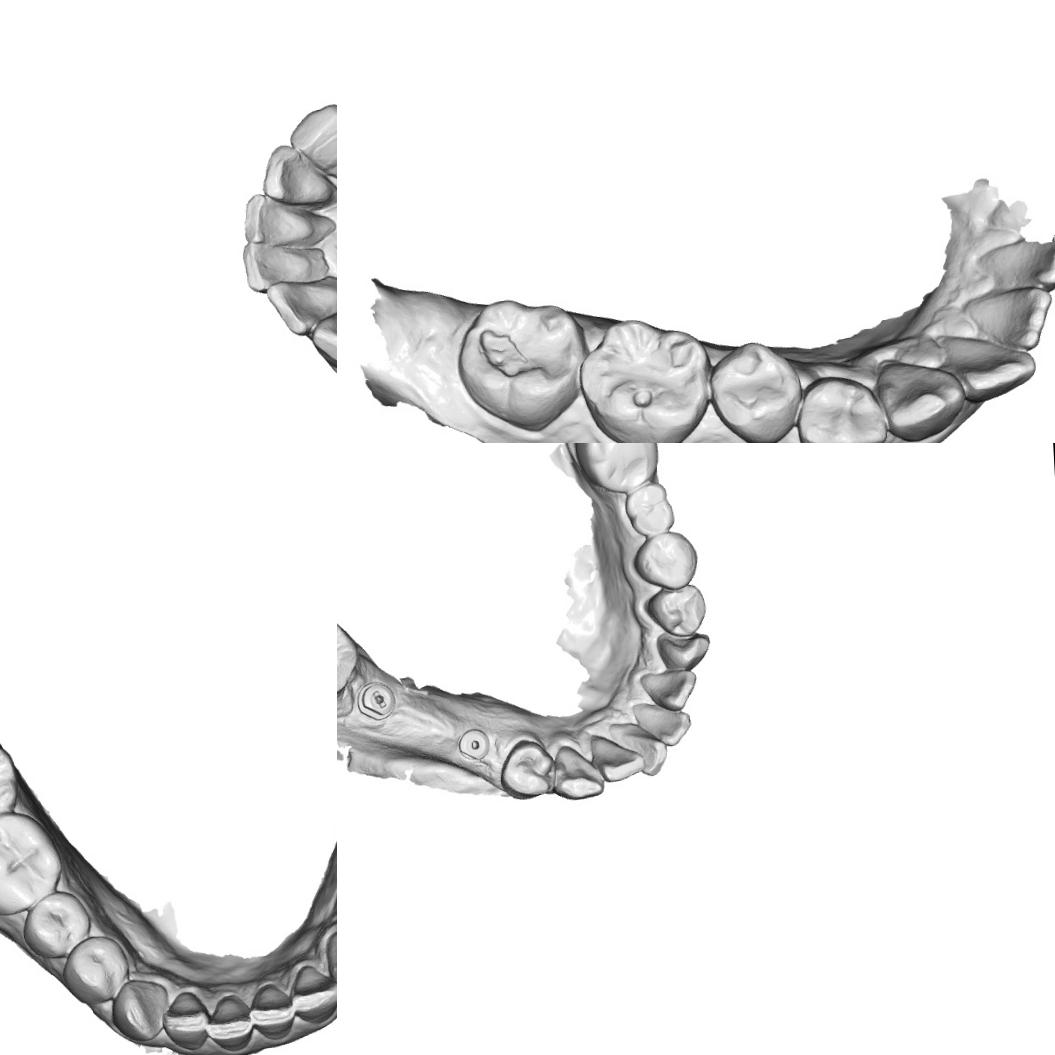canine: (870, 355, 968, 442), (285, 99, 337, 185), (109, 976, 168, 1044), (548, 742, 605, 802), (654, 630, 712, 674), (308, 301, 337, 376), (324, 924, 337, 995)
implant: (455, 724, 492, 762)
implant_minus: (356, 681, 397, 720)
incisor: (937, 326, 1038, 405), (962, 281, 1054, 354), (237, 188, 337, 252), (970, 223, 1055, 296), (238, 234, 335, 294), (259, 140, 336, 209), (261, 275, 337, 335), (632, 699, 701, 748), (610, 721, 668, 778), (160, 986, 208, 1052), (202, 991, 252, 1052), (248, 980, 296, 1042), (292, 958, 337, 1023), (636, 666, 699, 712), (588, 734, 646, 783)
molar: (450, 292, 590, 436), (573, 314, 713, 443), (0, 809, 64, 918), (571, 443, 660, 494), (621, 482, 678, 538), (337, 606, 360, 705), (0, 730, 20, 826)
premolar: (704, 336, 802, 443), (792, 371, 883, 443), (62, 932, 135, 1010), (20, 890, 92, 962), (630, 530, 699, 591), (498, 736, 556, 802), (642, 582, 708, 638)
